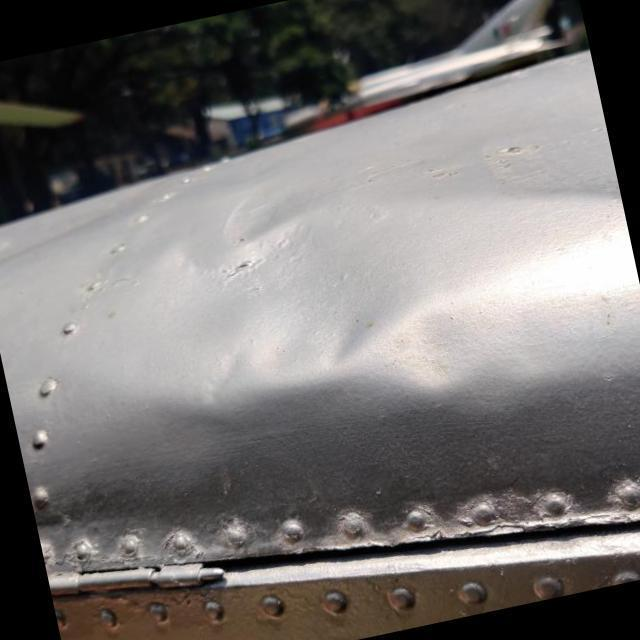dent: (80, 117, 503, 491)
